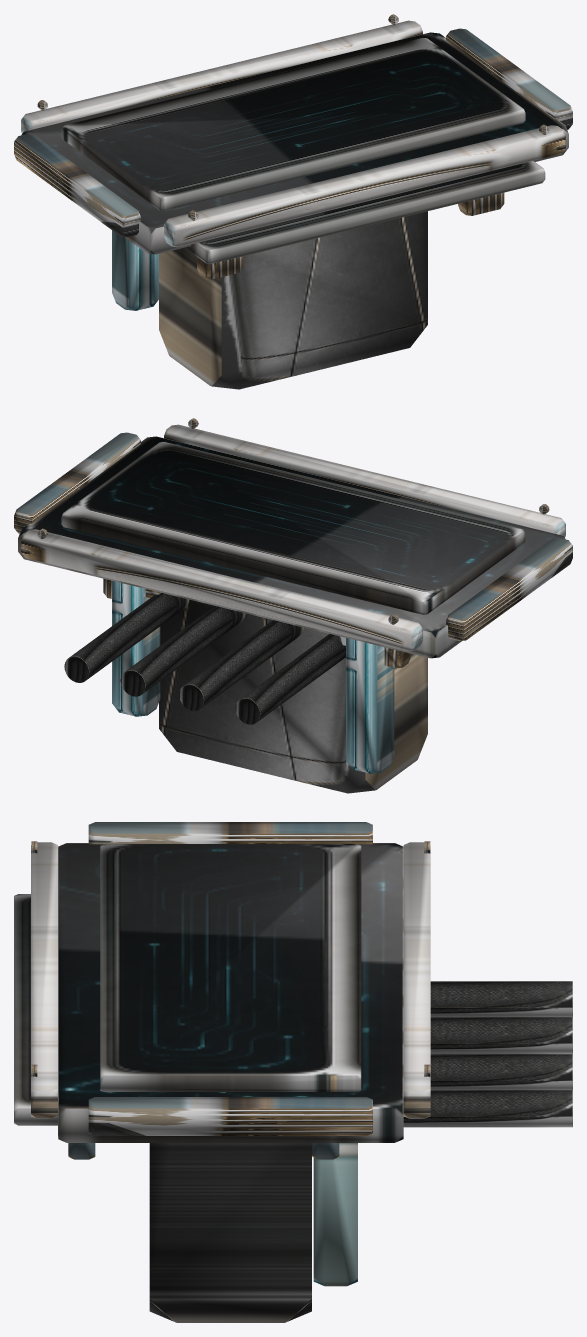
File: room_l5_v3_core_route_map_table.glb
3 renders of one model, top to bottom at view 1: azimuth 30°, elevation 25°; view 2: azimuth 150°, elevation 25°; view 3: azimuth 270°, elevation 25°, orthographic. The views are drawn at different scales.
Visible parts, largest first — view 1: raised_secondary_glass, curved_graphite_pedestal, ceramic_long_rim_0.55, black_glass_route_map_top, shadowed_under_table_plate, ceramic_long_rim_-0.55, brass_end_band_-0.96, brass_end_band_0.96, cyan_pedestal_lens_-0.52, visible_brass_support_foot_-0.58_0.44, visible_brass_support_foot_0.58_0.44; view 2: raised_secondary_glass, curved_graphite_pedestal, ceramic_long_rim_-0.55, black_glass_route_map_top, ceramic_long_rim_0.55, cyan_pedestal_lens_-0.52, brass_end_band_-0.96, front_padded_roll_-0.13, front_padded_roll_0.13, front_padded_roll_0.38, front_padded_roll_-0.38, cyan_pedestal_lens_0.52 (+1 smaller); view 3: raised_secondary_glass, curved_graphite_pedestal, black_glass_route_map_top, brass_end_band_0.96, ceramic_long_rim_-0.55, ceramic_long_rim_0.55, brass_end_band_-0.96, cyan_pedestal_lens_0.52, front_padded_roll_0.38, front_padded_roll_-0.13, front_padded_roll_-0.38, front_padded_roll_0.13 (+1 smaller).
Boxes of the visible parts, box(x1,y1,x2,y2) form: raised_secondary_glass: box(61, 38, 525, 210); curved_graphite_pedestal: box(159, 211, 427, 389); ceramic_long_rim_0.55: box(164, 125, 565, 247); black_glass_route_map_top: box(21, 32, 568, 254); shadowed_under_table_plate: box(185, 161, 545, 263); ceramic_long_rim_-0.55: box(21, 20, 422, 133); brass_end_band_-0.96: box(14, 134, 140, 237); brass_end_band_0.96: box(446, 28, 572, 129); cyan_pedestal_lens_-0.52: box(112, 230, 158, 310); visible_brass_support_foot_-0.58_0.44: box(197, 256, 243, 279); visible_brass_support_foot_0.58_0.44: box(458, 192, 504, 215); raised_secondary_glass: box(61, 442, 525, 614); curved_graphite_pedestal: box(159, 599, 427, 793); ceramic_long_rim_-0.55: box(21, 529, 422, 651); black_glass_route_map_top: box(18, 436, 565, 658); ceramic_long_rim_0.55: box(164, 424, 565, 537); cyan_pedestal_lens_-0.52: box(346, 638, 394, 773); brass_end_band_-0.96: box(446, 538, 572, 641); front_padded_roll_-0.13: box(179, 620, 303, 710); front_padded_roll_0.13: box(120, 606, 245, 696); front_padded_roll_0.38: box(64, 593, 188, 682); front_padded_roll_-0.38: box(235, 634, 345, 724); cyan_pedestal_lens_0.52: box(112, 581, 160, 716); raised_secondary_glass: box(100, 844, 361, 1091); curved_graphite_pedestal: box(149, 1143, 311, 1322); black_glass_route_map_top: box(58, 843, 403, 1142); brass_end_band_0.96: box(88, 1097, 372, 1135); ceramic_long_rim_-0.55: box(403, 842, 430, 1118); ceramic_long_rim_0.55: box(31, 842, 57, 1118); brass_end_band_-0.96: box(88, 822, 372, 844); cyan_pedestal_lens_0.52: box(313, 1143, 357, 1286); front_padded_roll_0.38: box(403, 1090, 572, 1127); front_padded_roll_-0.13: box(430, 1017, 572, 1054); front_padded_roll_-0.38: box(430, 981, 572, 1017); front_padded_roll_0.13: box(430, 1054, 572, 1090).
Bounding box in the file's own units: 2 × 0.988 × 1.65.
Materials: 9 (9 with a texture image).
